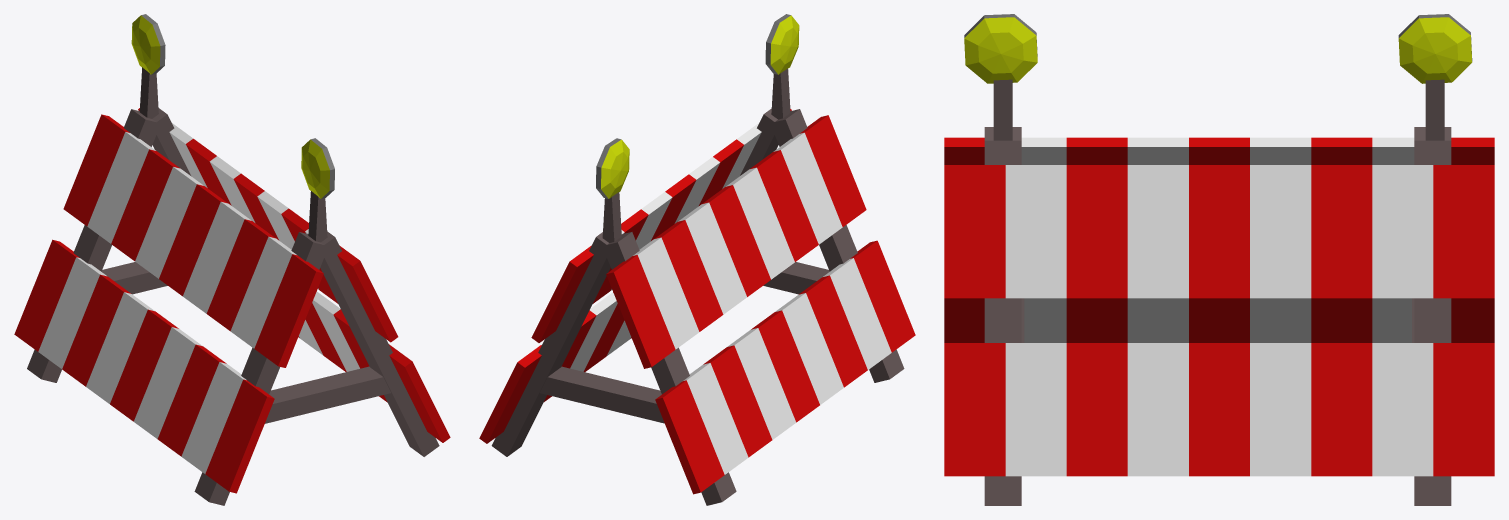
File: Avaria_Zabor.fbx
3 renders of one model, left to right at view 1: azimuth 30°, elevation 25°; view 2: azimuth 150°, elevation 25°; view 3: azimuth 270°, elevation 25°, orthographic. The views are drawn at different scales.
Parts seen in each view (by area): view 1: Avaria_zabor; view 2: Avaria_zabor; view 3: Avaria_zabor.
Boxes of the visible parts, x1,y1,x2,y2 form: Avaria_zabor: [14, 14, 450, 505]; Avaria_zabor: [479, 14, 915, 505]; Avaria_zabor: [944, 14, 1494, 505].
Bounding box in the file's own units: 1.54 × 2.13 × 2.48.
